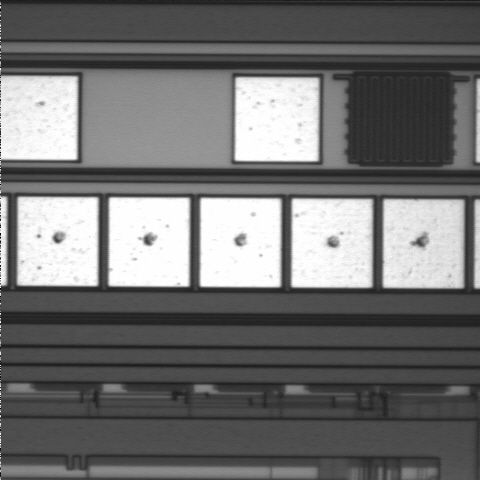pad: (108, 197, 190, 287), (291, 199, 373, 288), (17, 197, 98, 286), (200, 198, 281, 287), (383, 199, 464, 288), (235, 77, 319, 161)
